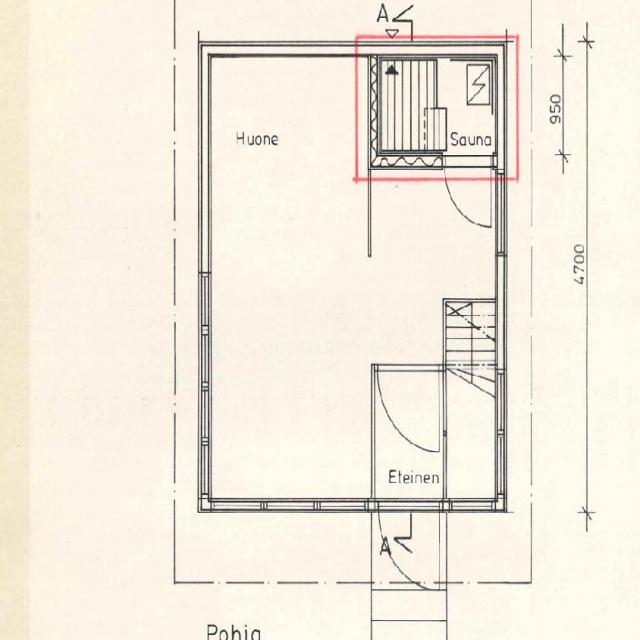door: (378, 497, 440, 592), (378, 364, 439, 451), (445, 153, 491, 229)
